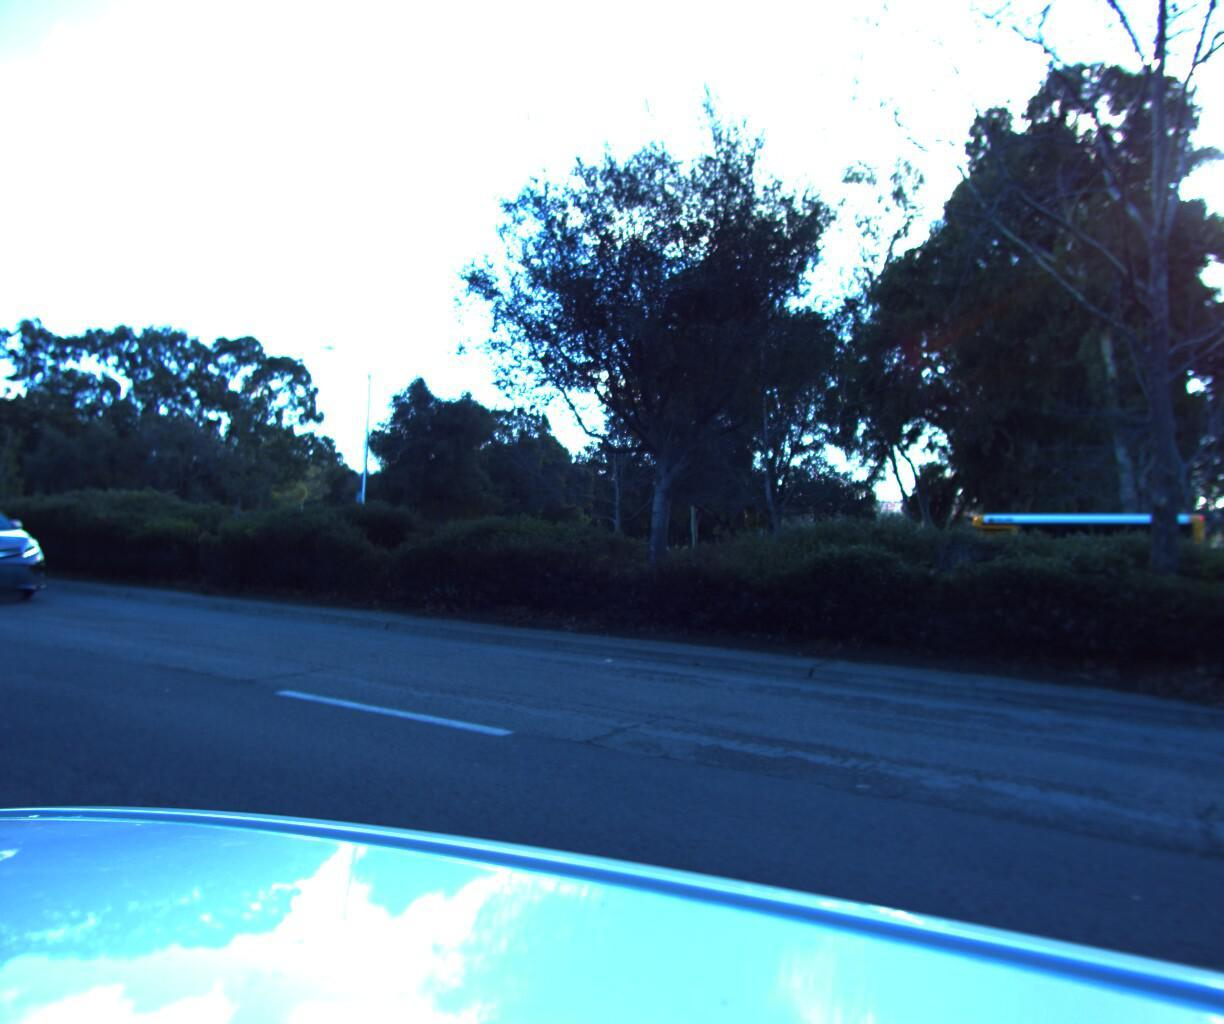bus: (888, 498, 1224, 633)
car: (0, 475, 65, 609)
